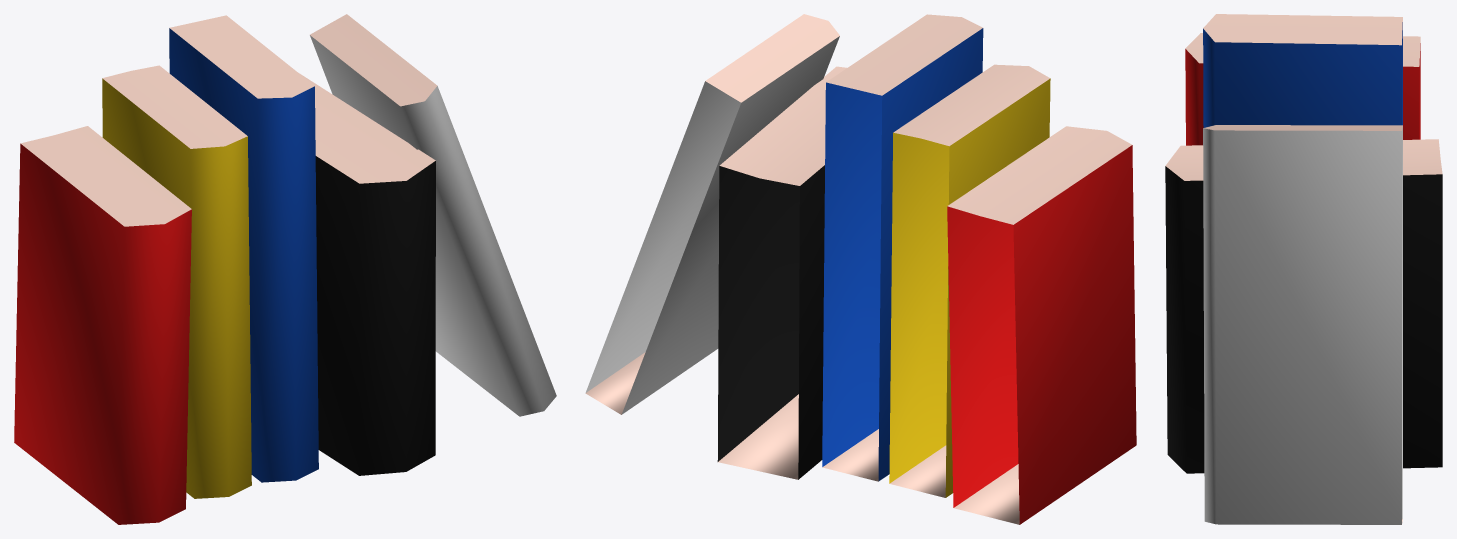
File: Books.FBX
3 views of the same model, side by side, from view 1: azimuth 30°, elevation 25°; view 2: azimuth 150°, elevation 25°; view 3: azimuth 270°, elevation 25° (orthographic).
Parts seen in each view (by area): view 1: books; view 2: books; view 3: books.
Part boxes in pixels (<box>): books: <box>14,14,556,524</box>; books: <box>585,14,1136,524</box>; books: <box>1165,14,1442,524</box>.
Bounding box in the file's own units: 1.93 × 1.59 × 1.05.
